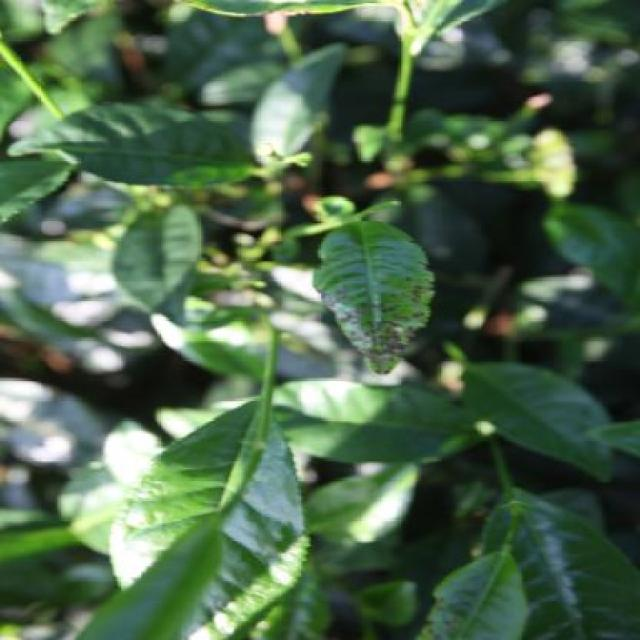Tea Mosquito bug infested leaf: (315, 212, 448, 376)
